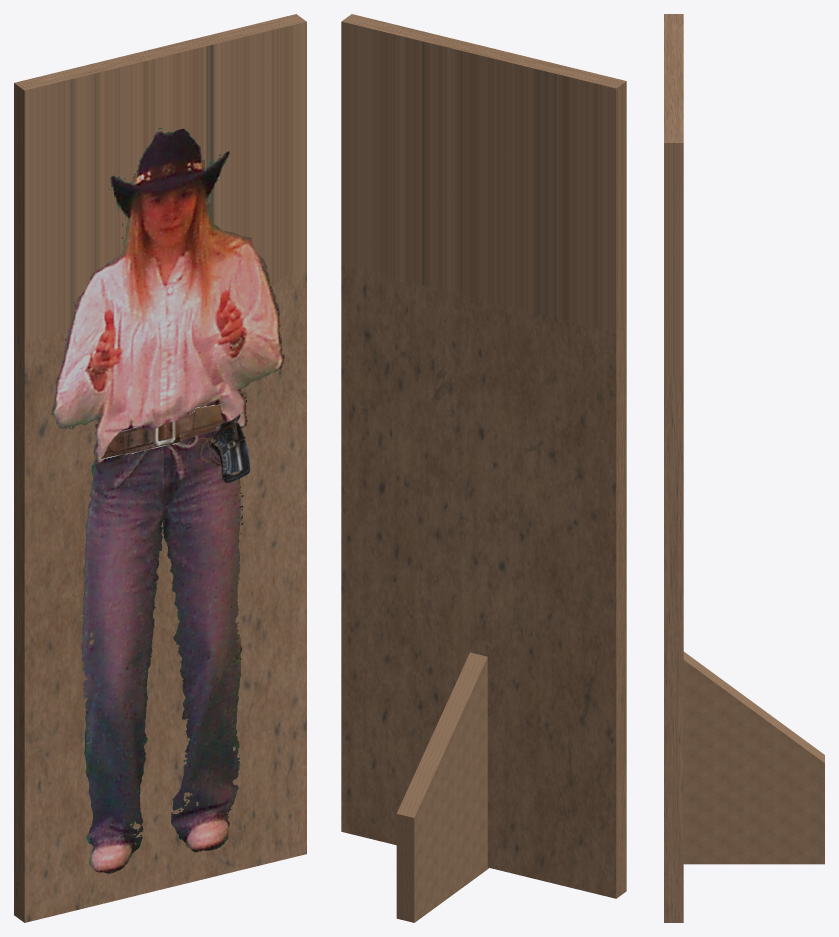
3 views of the same model, side by side, from view 1: azimuth 30°, elevation 25°; view 2: azimuth 150°, elevation 25°; view 3: azimuth 270°, elevation 25° (orthographic). The views are drawn at different scales.
Visible parts, largest first — view 1: Cube, 2-shoot; view 2: Cube, Cube.001; view 3: Cube.001, Cube.
Part boxes in pixels (<box>): Cube: <box>14,14,306,922</box>; 2-shoot: <box>48,127,284,873</box>; Cube: <box>341,14,626,898</box>; Cube.001: <box>396,652,488,922</box>; Cube.001: <box>683,651,824,864</box>; Cube: <box>664,14,683,922</box>.
Bounding box in the file's own units: 481 × 1316 × 250.
